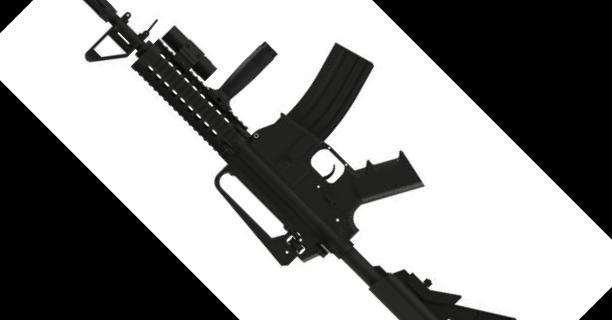larga: (83, 0, 517, 320)
